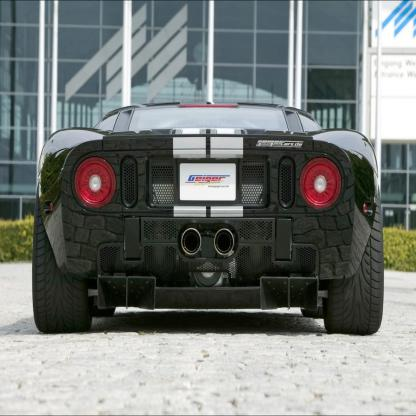Vehicle: (33, 103, 385, 338)
